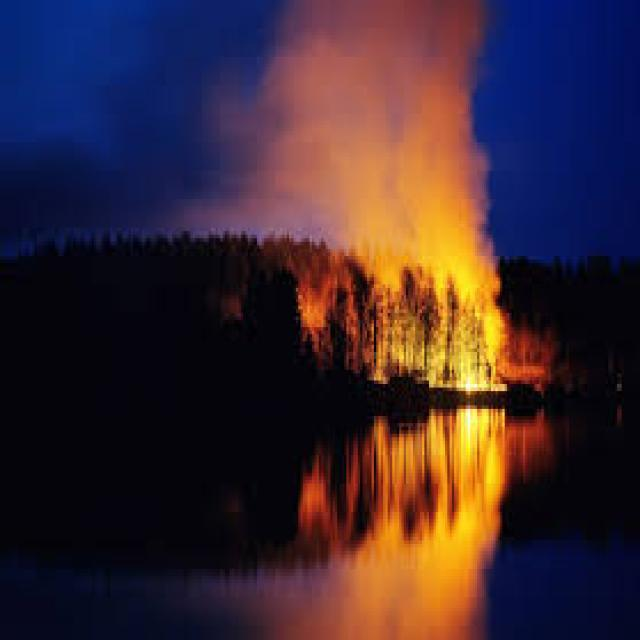Fire: (311, 404, 514, 640), (323, 221, 506, 390)
Smoke: (234, 0, 489, 217)
